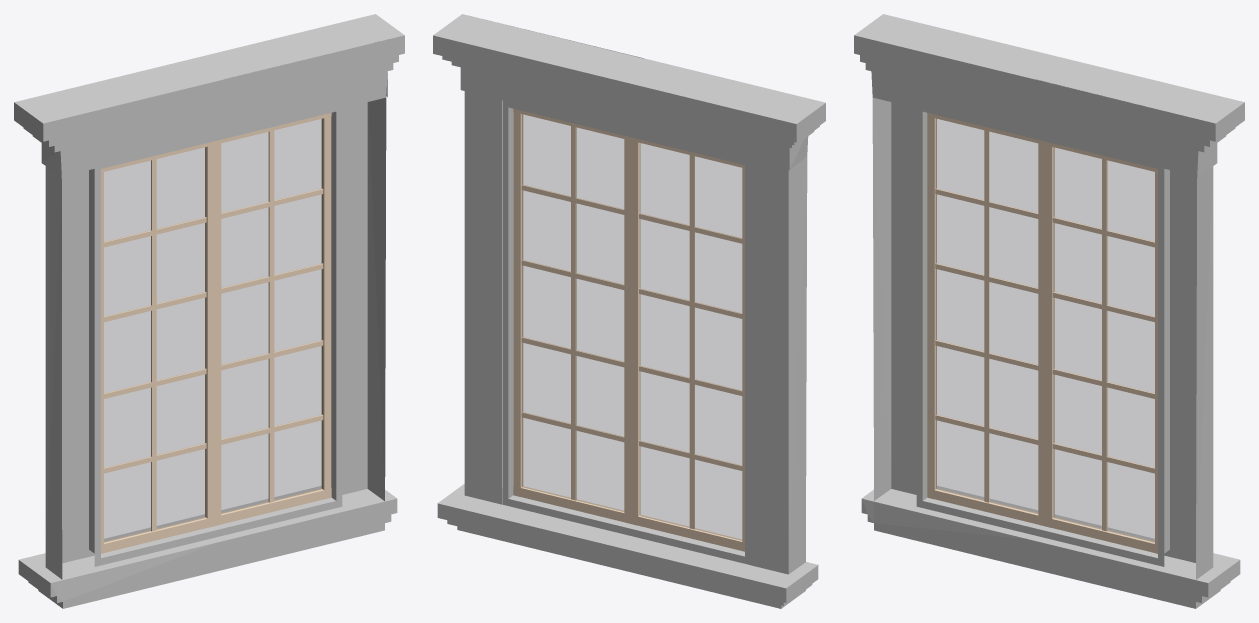
File: window8.dae
The picture shows the model from 3 angles, left to right: view 1: azimuth 30°, elevation 25°; view 2: azimuth 150°, elevation 25°; view 3: azimuth 330°, elevation 25°; orthographic projection.
Parts seen in each view (by area): view 1: 立方体.003; view 2: 立方体.003; view 3: 立方体.003.
Boxes of the visible parts, bbox=[...] form: 立方体.003: bbox=[14, 14, 404, 608]; 立方体.003: bbox=[433, 14, 825, 608]; 立方体.003: bbox=[854, 14, 1244, 608].
Size of the model in its own units: 0.7762 by 0.1193 by 1.01.
